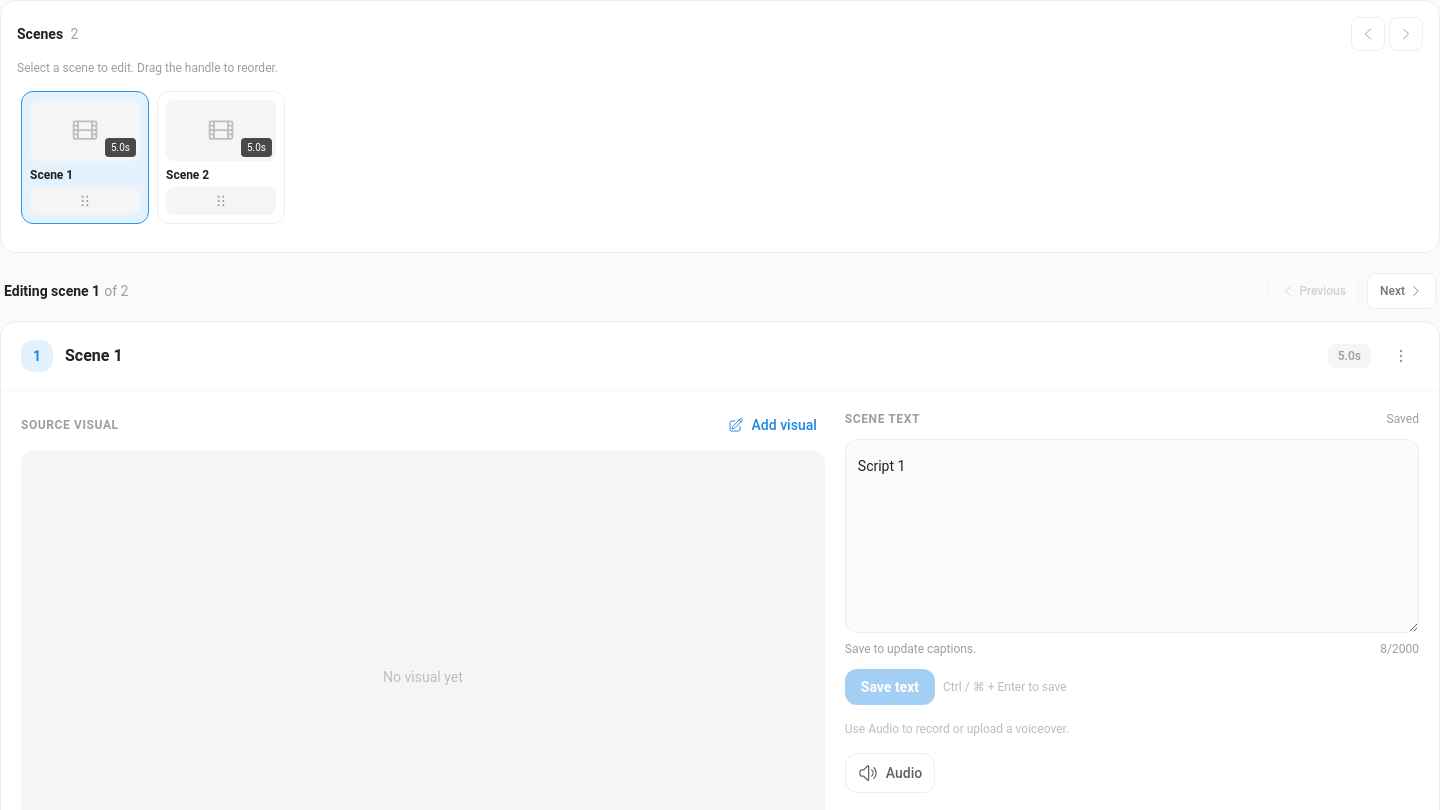
Test: keeps drafts in memory when browser storage is unavailable
This screenshot has width=1440, height=810.
Replace the text in the text box named "Text for scene 1" with "Keep in memory" at point(1132, 536), box [845,439,1419,633]
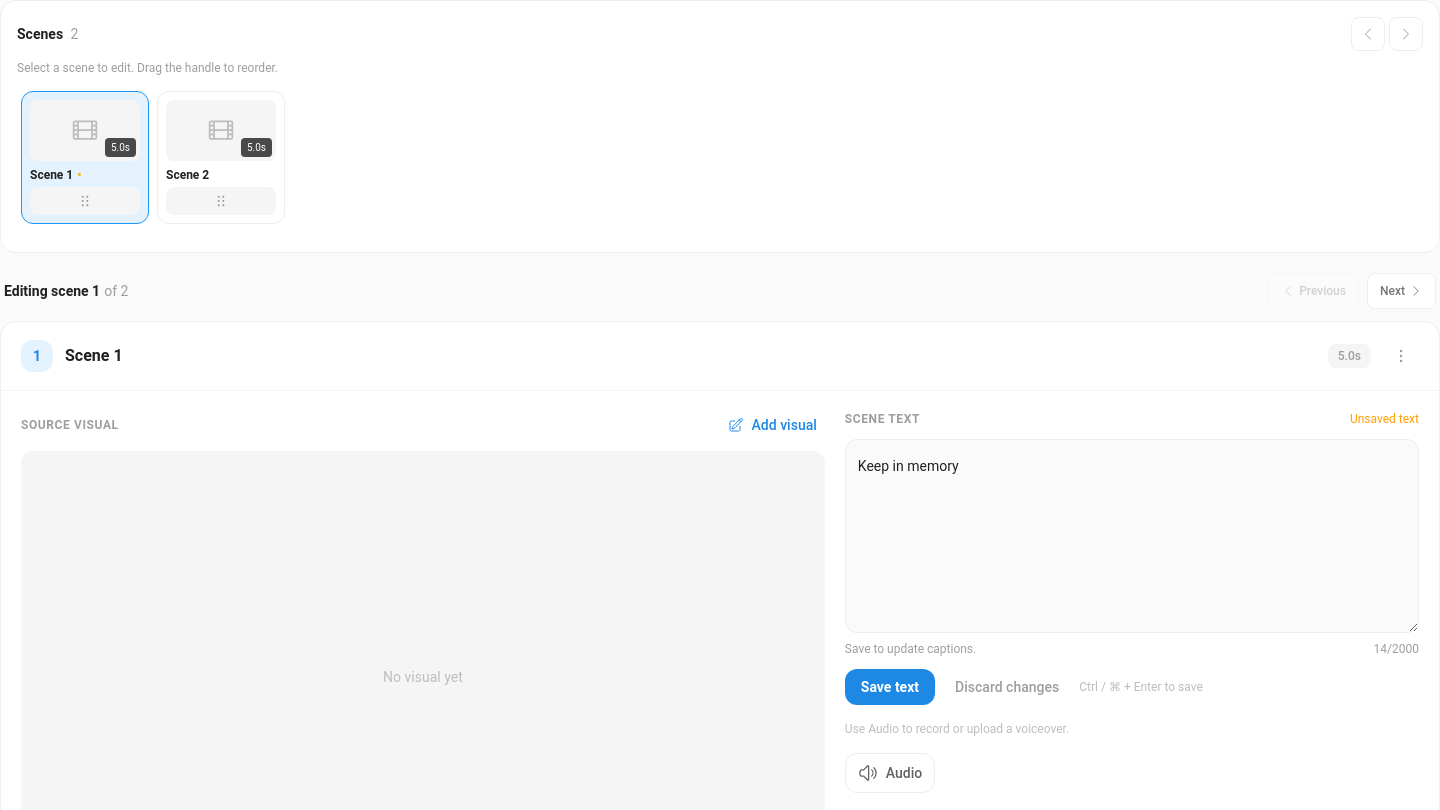
Click the button with aria-label "Edit scene 2" at point(221, 141), box [166,100,276,183]
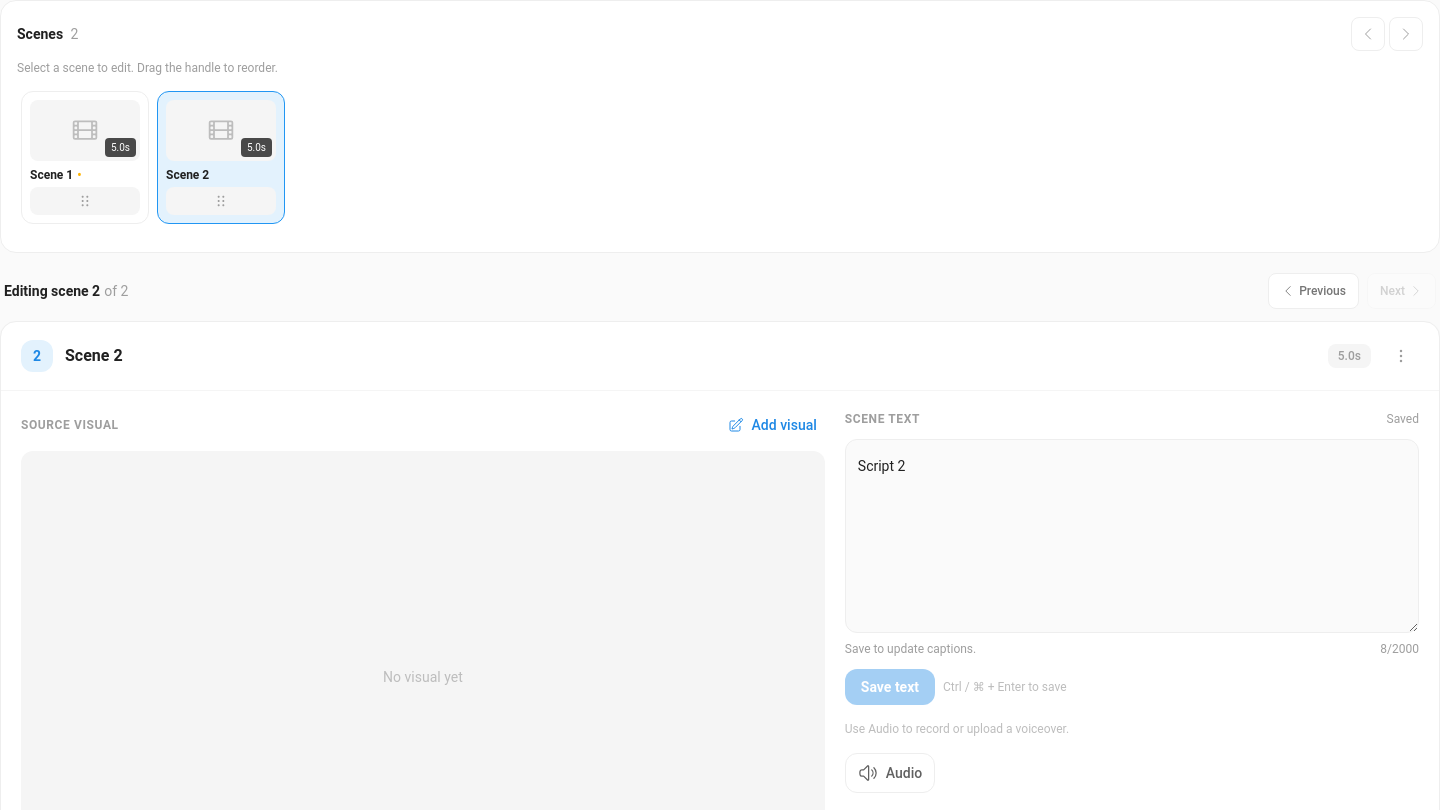
Click the button with aria-label "Edit scene 1" at point(85, 141), box [30,100,140,183]
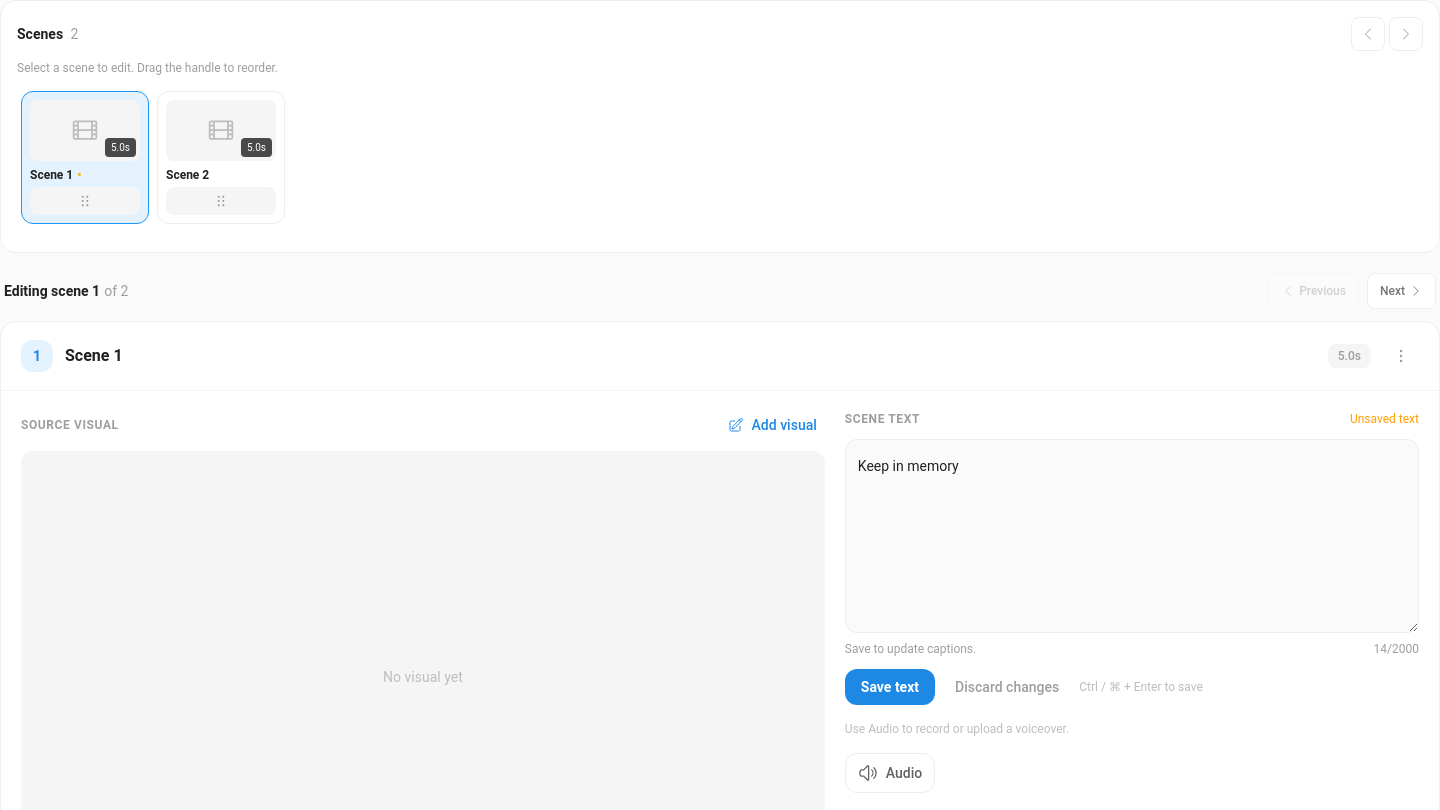
Result: the text box named "Text for scene 1" holds "Keep in memory" at [845,439,1419,633]
